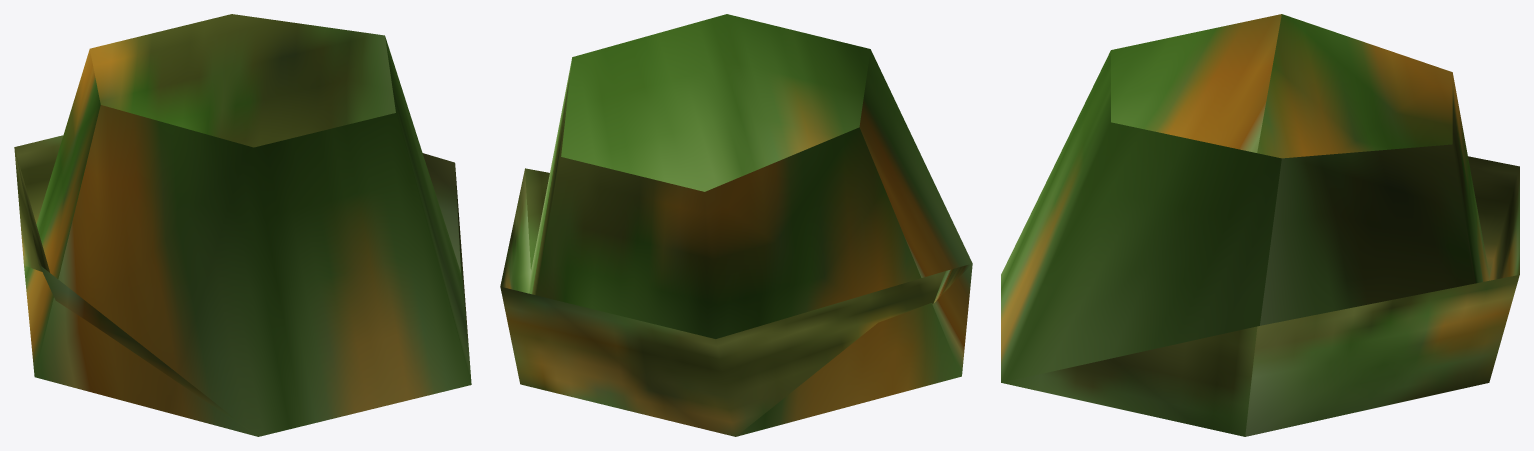
File: batch_0112.obj
3 views of the same model, side by side, from view 1: azimuth 30°, elevation 25°; view 2: azimuth 150°, elevation 25°; view 3: azimuth 270°, elevation 25° (orthographic). The views are drawn at different scales.
Visible parts, largest first — view 1: batch_0112; view 2: batch_0112; view 3: batch_0112.
Boxes of the visible parts, x1,y1,x2,y2 form: batch_0112: (14, 14, 471, 436); batch_0112: (500, 14, 972, 436); batch_0112: (1001, 14, 1519, 436).
Size of the model in its own units: 21 by 11.25 by 21.25.
1 material, 1 textured.
